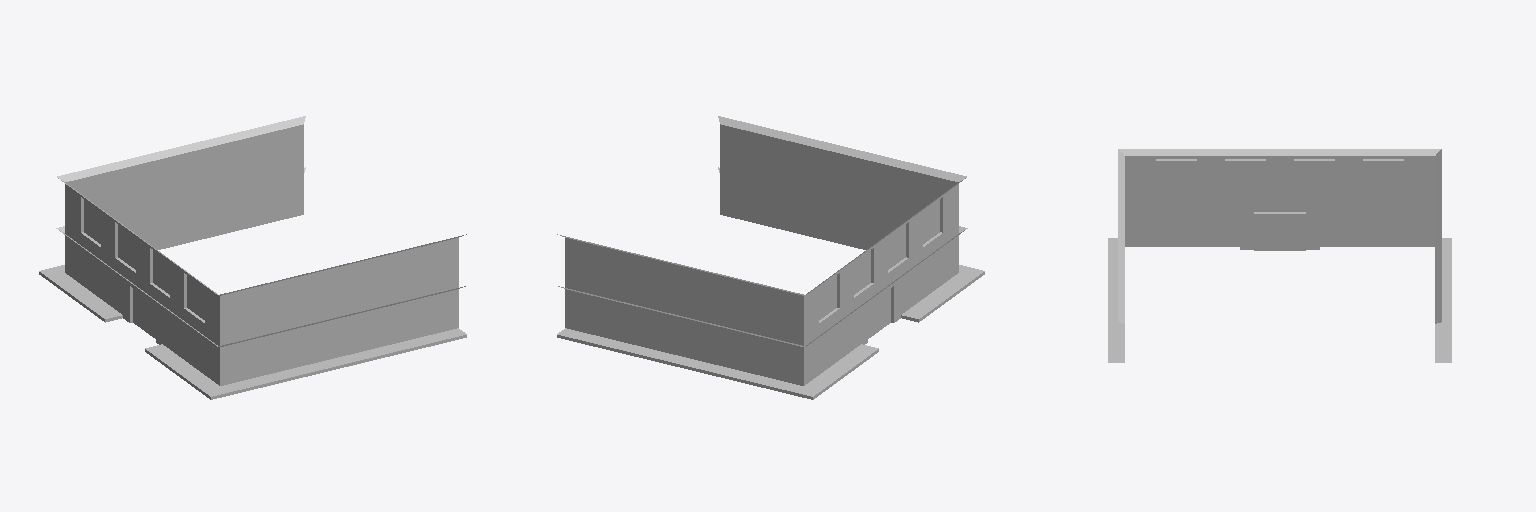
Rendered from industry_build_3.obj.
3 renders of one model, left to right at view 1: azimuth 30°, elevation 25°; view 2: azimuth 150°, elevation 25°; view 3: azimuth 270°, elevation 25°, orthographic.
Visible parts, largest first — view 1: IndustryBuild3_00; view 2: IndustryBuild3_00; view 3: IndustryBuild3_00.
Boxes of the visible parts, box(x1,y1,x2,y2) form: IndustryBuild3_00: box(39, 116, 466, 399); IndustryBuild3_00: box(557, 116, 984, 399); IndustryBuild3_00: box(1108, 149, 1451, 362).
Bounding box in the file's own units: 17.6 × 6.3 × 20.